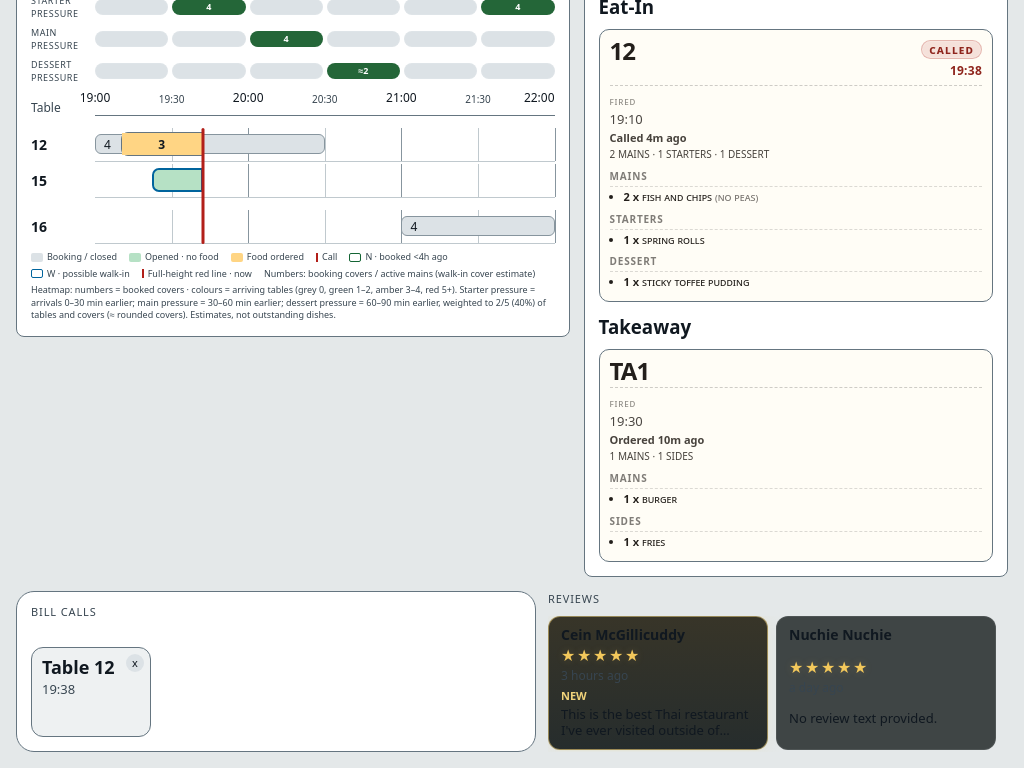
KitchenDisplayScreen › replaces review detail with order detail when a live order is selected from the planner
The width and height of the screenshot is (1024, 768).
(page scrolled)
Click the button named "open review by cein mcgillicuddy": (658, 682) 548,616 -> 768,750
(page scrolled)
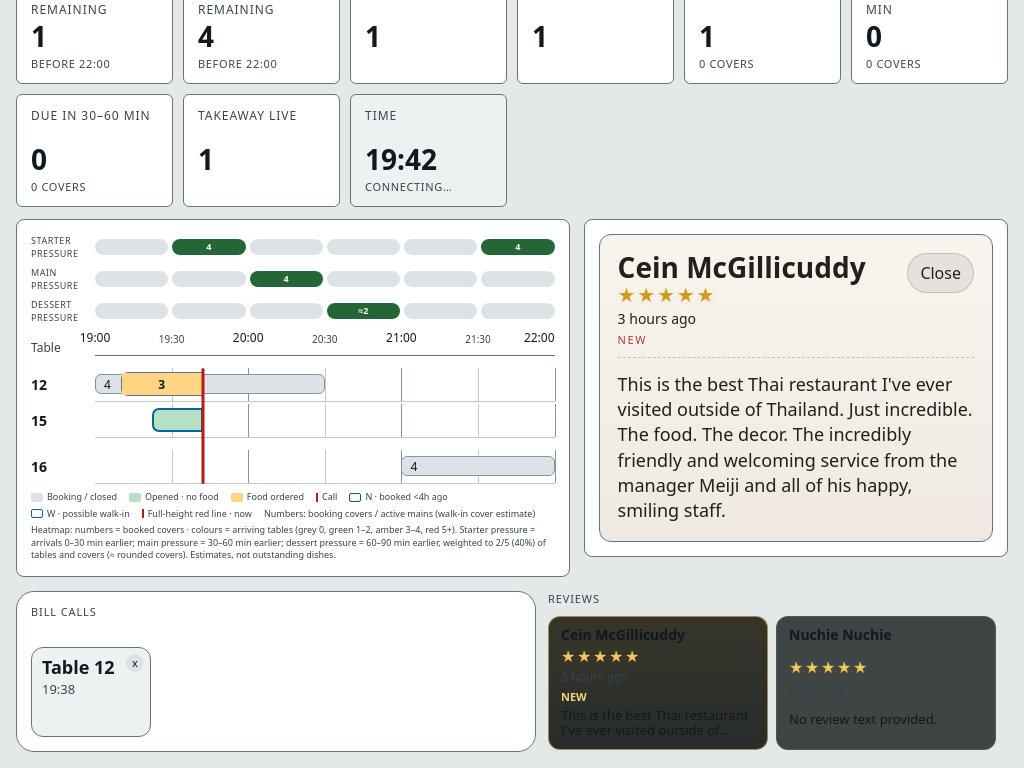
Click the button named "live order 12": (162, 384) 120,372 -> 203,396
(page scrolled)
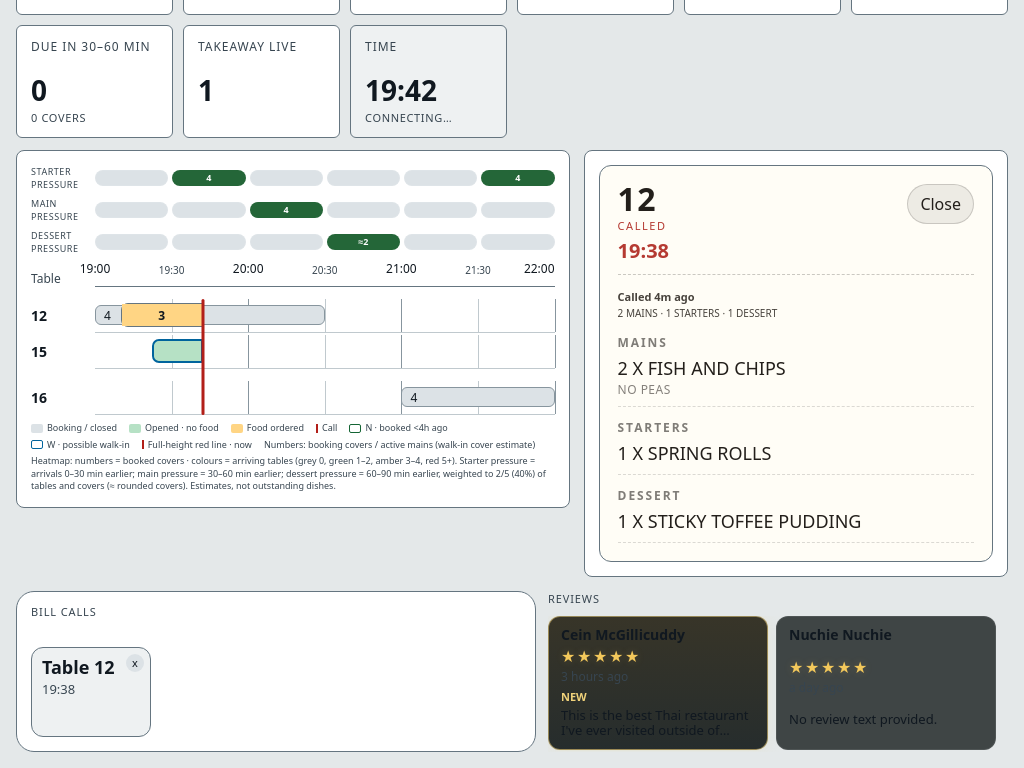
Expected: the field labelled "review details" is not shown
Result: the element named "order details" is shown at 599,165 -> 993,562
